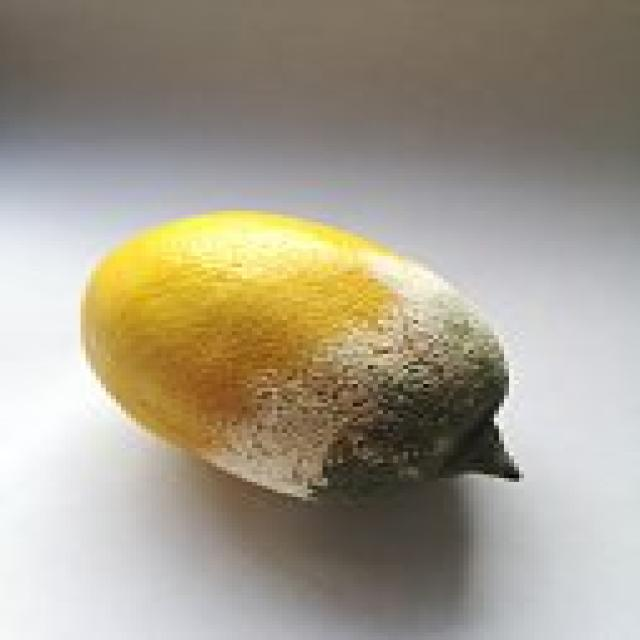Rotten: (74, 209, 526, 504)
